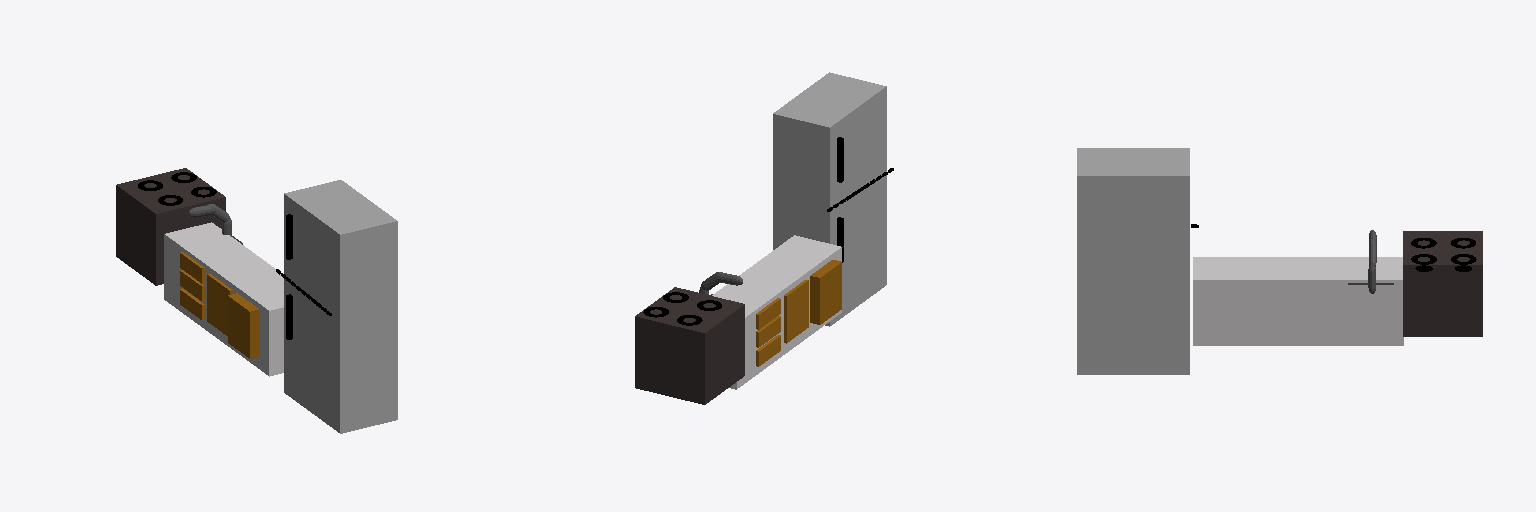
File: kitchen-from-house.obj
3 views of the same model, side by side, from view 1: azimuth 30°, elevation 25°; view 2: azimuth 150°, elevation 25°; view 3: azimuth 270°, elevation 25° (orthographic).
Visible parts, largest first — view 1: Box7, Box, Box6, Box1, Box2; view 2: Box7, Box6, Box, Box1, Box2; view 3: Box7, Box, Box6.
Part boxes in pixels (left/top/right/bottom): Box7: left=284, top=180, right=397, bottom=433; Box: left=164, top=222, right=283, bottom=376; Box6: left=116, top=168, right=225, bottom=285; Box1: left=228, top=293, right=259, bottom=358; Box2: left=207, top=274, right=232, bottom=335; Box7: left=773, top=72, right=886, bottom=326; Box6: left=635, top=287, right=744, bottom=404; Box: left=712, top=235, right=841, bottom=389; Box1: left=810, top=260, right=841, bottom=324; Box2: left=784, top=280, right=808, bottom=343; Box7: left=1077, top=148, right=1189, bottom=374; Box: left=1193, top=257, right=1403, bottom=345; Box6: left=1403, top=231, right=1482, bottom=336.
Bounding box in the file's own units: 4 × 9.45 × 17.48.